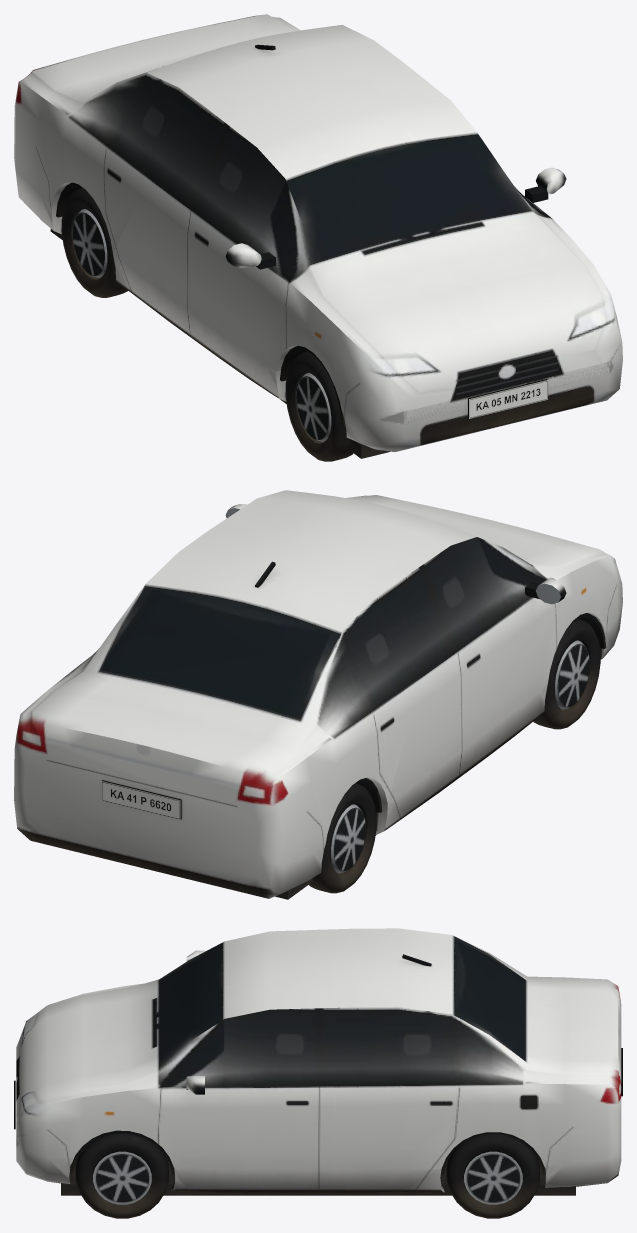
The model's file is car_sedan.glb.
3 views of the same model, one above another, from view 1: azimuth 30°, elevation 25°; view 2: azimuth 150°, elevation 25°; view 3: azimuth 270°, elevation 25° (orthographic). The views are drawn at different scales.
Parts seen in each view (by area): view 1: car_sedan; view 2: car_sedan; view 3: car_sedan.
Boxes of the visible parts, x1=… form: car_sedan: x1=14, y1=14, x2=622, y2=461; car_sedan: x1=14, y1=490, x2=622, y2=899; car_sedan: x1=14, y1=928, x2=622, y2=1218.
Bounding box in the file's own units: 2.12 × 1.55 × 4.02.
1 material, 1 textured.
